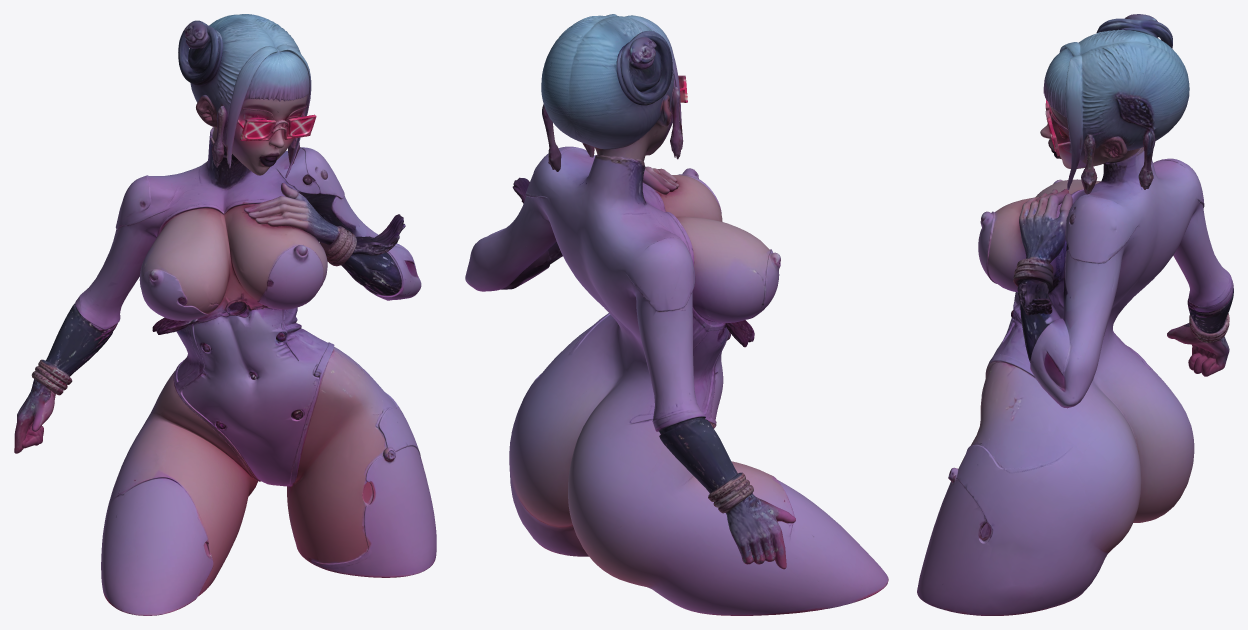
The model's file is girl-13.glb.
3 views of the same model, side by side, from view 1: azimuth 30°, elevation 25°; view 2: azimuth 150°, elevation 25°; view 3: azimuth 270°, elevation 25° (orthographic). The views are drawn at different scales.
Visible parts, largest first — view 1: node_0; view 2: node_0; view 3: node_0.
Boxes of the visible parts, <box> form: node_0: <box>14,14,436,615</box>; node_0: <box>465,14,888,615</box>; node_0: <box>917,14,1233,615</box>.
Bounding box in the file's own units: 0.6946 × 0.9631 × 0.5291.
Materials: 1 (1 with a texture image).
